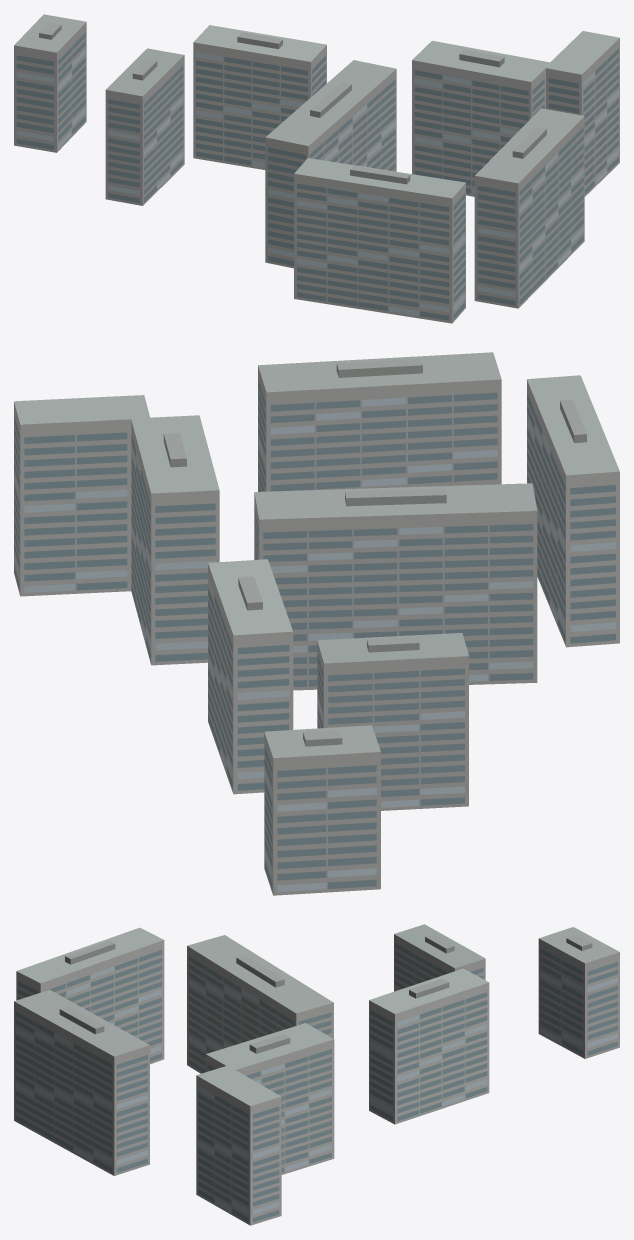
File: apt-a15683901.glb
The picture shows the model from 3 angles, top to bottom: view 1: azimuth 30°, elevation 25°; view 2: azimuth 150°, elevation 25°; view 3: azimuth 270°, elevation 25°; orthographic projection. The views are drawn at different scales.
Parts seen in each view (by area): view 1: apt-a15683901; view 2: apt-a15683901; view 3: apt-a15683901.
Part boxes in pixels (box(x1,y1,x2,y2)): apt-a15683901: box(14, 14, 619, 323); apt-a15683901: box(14, 352, 619, 895); apt-a15683901: box(14, 924, 619, 1225).
Bounding box in the file's own units: 139 × 40 × 176.
